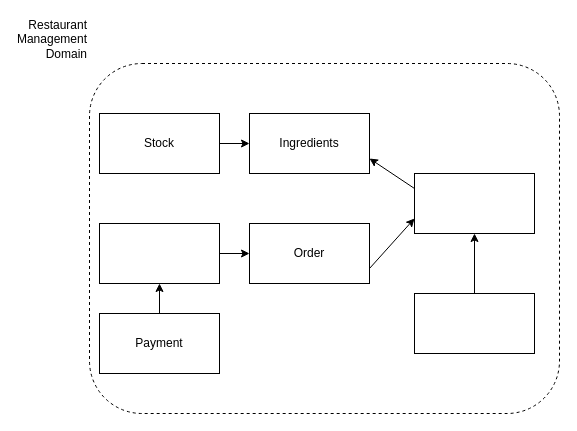
This 577x431 diagram has some shape labels left out. Here are the shapes that lost their labels. From the top down, the centre of each, then its label:
pixel 474 203: MenuItem
pixel 159 253: Check
pixel 474 323: Menu
